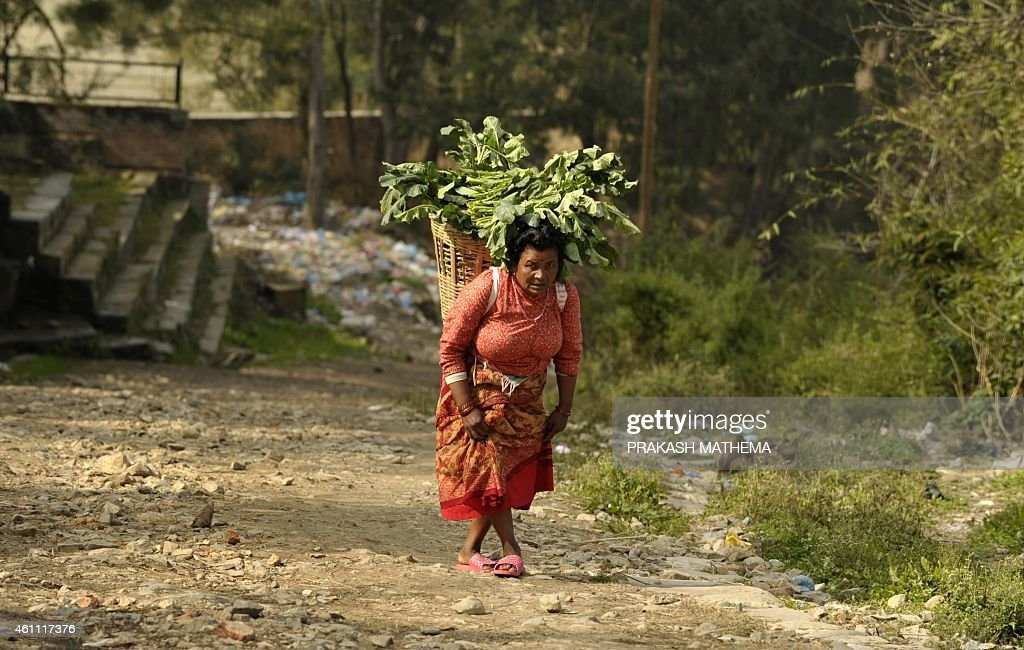human: (433, 228, 584, 582)
